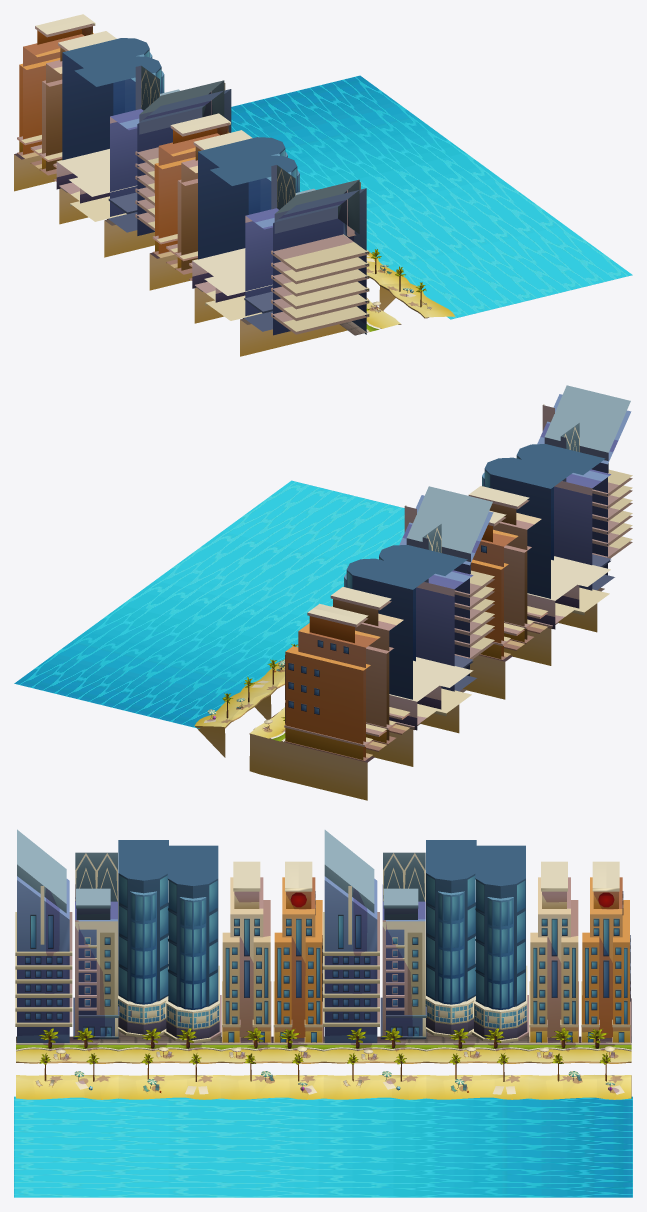
File: City2.fbx
3 renders of one model, top to bottom at view 1: azimuth 30°, elevation 25°; view 2: azimuth 150°, elevation 25°; view 3: azimuth 270°, elevation 25°, orthographic. The views are drawn at different scales.
Parts seen in each view (by area): view 1: Plane, 1.104_Dubai_med_03_right.001, 1.104_Dubai_med_02_right.001, 1.104_Dubai_med_02_right, 1.104_Dubai_med_03_right, 1.104_Dubai_med_01_right, 1.104_Dubai_med_01_right.001, 1.104_Dubai_med_03_left.001, 1.104_Dubai_med_02_left.001; view 2: Plane, 1.104_Dubai_med_01_right, 1.104_Dubai_med_03_right, 1.104_Dubai_med_03_right.001, 1.104_Dubai_med_02_right.001, 1.104_Dubai_med_02_right, 1.104_Dubai_med_01_right.001, 1.104_Dubai_med_01_left, 1.104_Dubai_med_02_left; view 3: Plane, 1.104_Dubai_med_02_right.001, 1.104_Dubai_med_02_right, 1.104_Dubai_med_03_right, 1.104_Dubai_med_03_right.001, 1.104_Dubai_med_01_right.001, 1.104_Dubai_med_01_right, 1.104_Dubai_med_03_left, 1.104_Dubai_med_01_left, 1.104_Dubai_med_03_left.001, 1.104_Dubai_med_01_left.001, 1.104_Dubai_med_02_left (+1 smaller).
Boxes of the visible parts, <box> form: Plane: <box>231,75,632,319</box>; 1.104_Dubai_med_03_right.001: <box>240,165,401,356</box>; 1.104_Dubai_med_02_right.001: <box>192,137,299,323</box>; 1.104_Dubai_med_02_right: <box>56,38,164,224</box>; 1.104_Dubai_med_03_right: <box>104,65,231,257</box>; 1.104_Dubai_med_01_right: <box>14,14,116,191</box>; 1.104_Dubai_med_01_right.001: <box>149,113,252,290</box>; 1.104_Dubai_med_03_left.001: <box>379,266,455,318</box>; 1.104_Dubai_med_02_left.001: <box>366,249,409,285</box>; Plane: <box>14,480,404,728</box>; 1.104_Dubai_med_01_right: <box>249,587,409,800</box>; 1.104_Dubai_med_03_right: <box>399,486,494,733</box>; 1.104_Dubai_med_03_right.001: <box>537,385,632,632</box>; 1.104_Dubai_med_02_right.001: <box>482,444,610,665</box>; 1.104_Dubai_med_02_right: <box>344,545,473,766</box>; 1.104_Dubai_med_01_right.001: <box>463,486,547,699</box>; 1.104_Dubai_med_01_left: <box>194,677,271,757</box>; 1.104_Dubai_med_02_left: <box>240,644,297,719</box>; Plane: <box>14,1096,632,1197</box>; 1.104_Dubai_med_02_right.001: <box>118,840,221,1063</box>; 1.104_Dubai_med_02_right: <box>425,840,528,1063</box>; 1.104_Dubai_med_03_right: <box>323,830,426,1063</box>; 1.104_Dubai_med_03_right.001: <box>15,829,119,1063</box>; 1.104_Dubai_med_01_right.001: <box>221,861,323,1063</box>; 1.104_Dubai_med_01_right: <box>528,861,631,1063</box>; 1.104_Dubai_med_03_left: <box>323,1053,426,1099</box>; 1.104_Dubai_med_01_left: <box>528,1053,631,1099</box>; 1.104_Dubai_med_03_left.001: <box>16,1053,118,1099</box>; 1.104_Dubai_med_01_left.001: <box>221,1053,323,1099</box>; 1.104_Dubai_med_02_left: <box>426,1053,528,1099</box>.
Bounding box in the file's own units: 57710 × 29398 × 75750.
3 materials, 3 textured.
